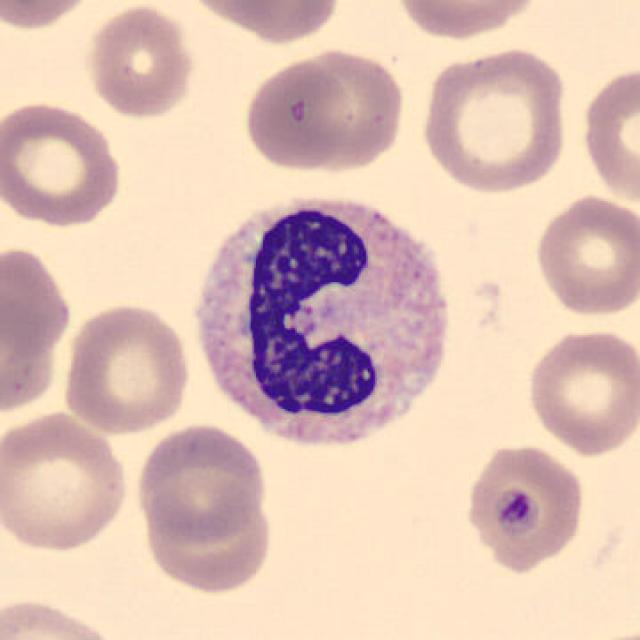Neutrophil: (182, 182, 469, 469)
Platelets: (488, 486, 545, 537)
RBC: (416, 41, 572, 196), (0, 408, 132, 556), (58, 300, 194, 437), (459, 437, 590, 573), (274, 46, 411, 174), (132, 419, 270, 546), (0, 97, 128, 229), (523, 324, 638, 458), (137, 492, 277, 596), (530, 190, 638, 321), (82, 2, 199, 122), (240, 56, 356, 173), (0, 237, 76, 407), (576, 60, 640, 210), (389, 0, 549, 42), (0, 594, 123, 640), (220, 0, 345, 44), (0, 0, 101, 33), (178, 0, 304, 25)
